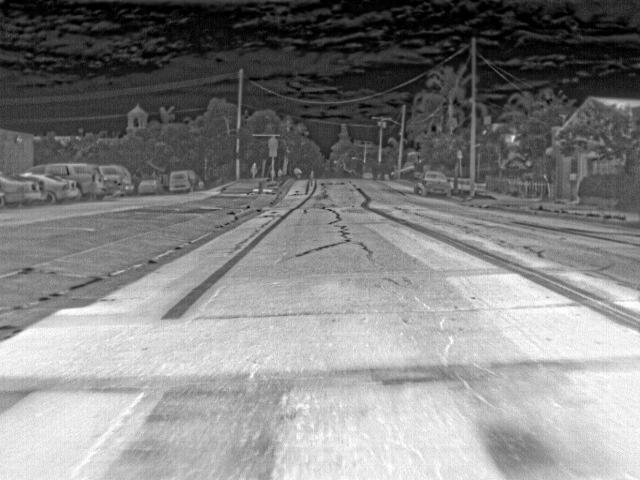car: (37, 160, 124, 202), (18, 172, 82, 206), (1, 173, 46, 209), (414, 170, 453, 197), (169, 168, 200, 193), (114, 166, 134, 195), (138, 176, 161, 196), (363, 171, 375, 180)
person: (251, 161, 259, 178)
